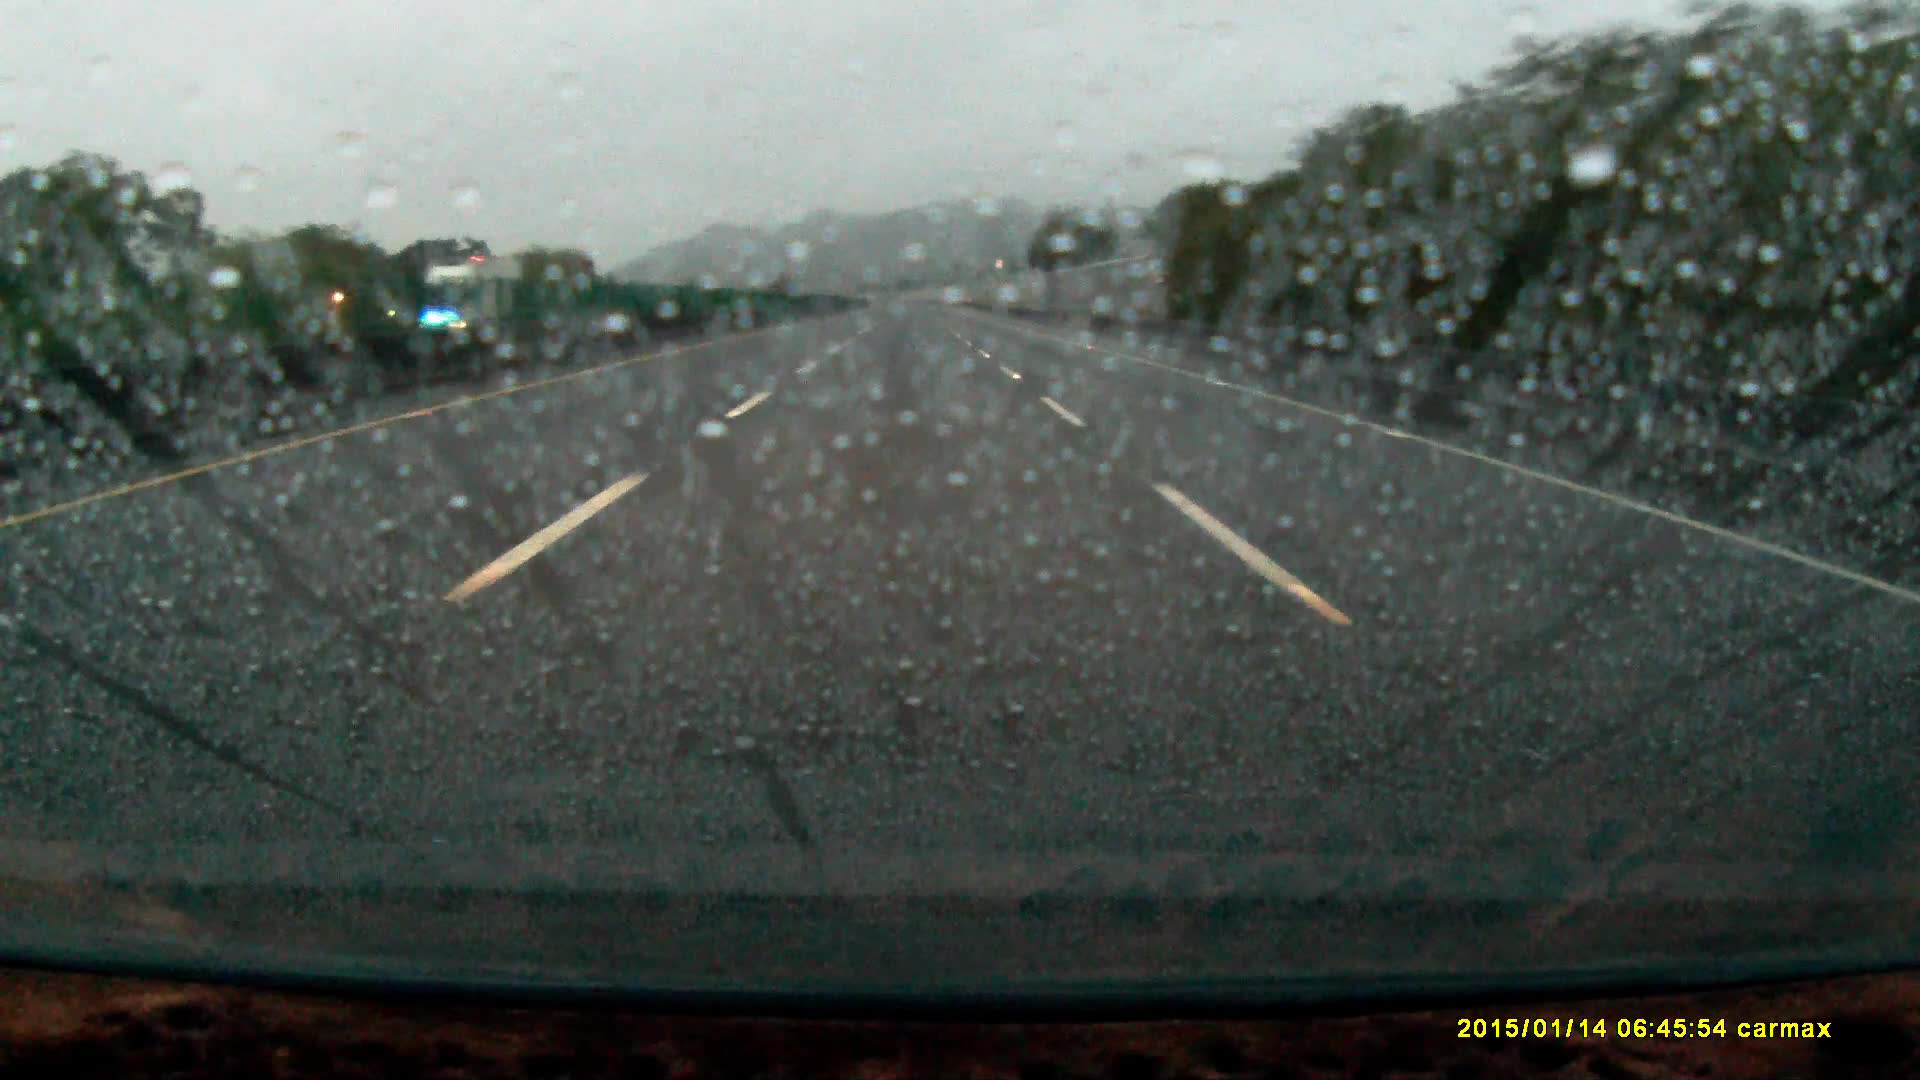vehicle: (410, 255, 522, 342)
